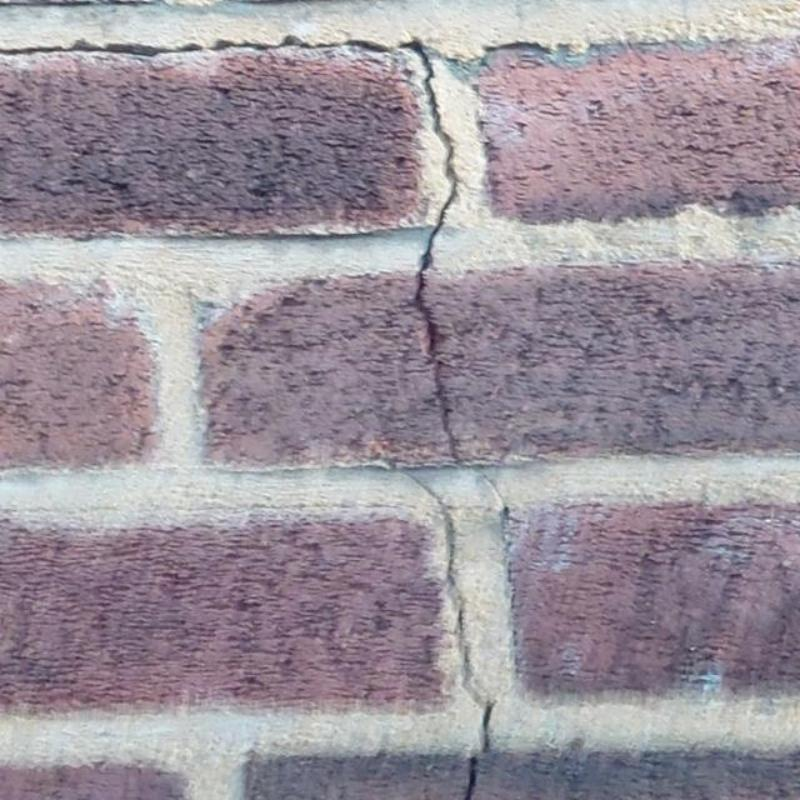crack: (395, 466, 485, 708), (400, 37, 461, 353), (429, 350, 509, 514), (467, 696, 500, 799)
